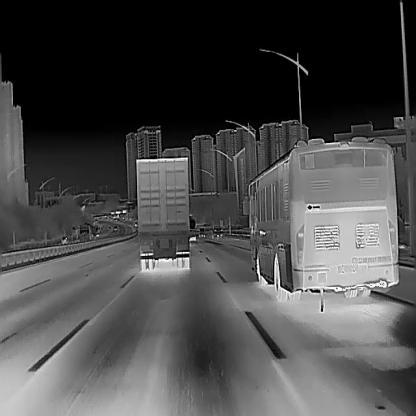car: (242, 135, 398, 300), (136, 156, 190, 271), (212, 225, 223, 233), (198, 232, 206, 238)
